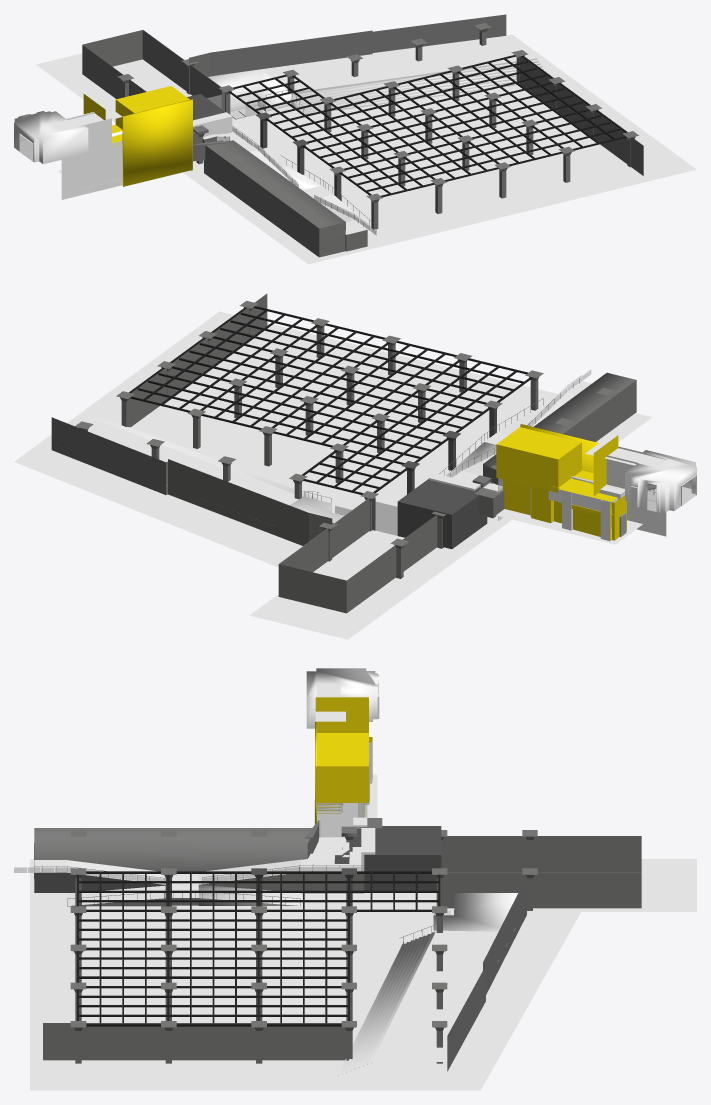
File: mtm.glb
3 views of the same model, one above another, from view 1: azimuth 30°, elevation 25°; view 2: azimuth 150°, elevation 25°; view 3: azimuth 270°, elevation 25° (orthographic). The views are drawn at different scales.
Parts seen in each view (by area): view 1: ISTAIS IZMERS SIENAM, ISTAIS IZMERS SIENAM.001, režģis, mazās_trepes, Cube.005, stabi.035, ieeja, Plane.002, mazā_zāle, Cube.012, Cube.003, Cube.009 (+9 smaller); view 2: ISTAIS IZMERS SIENAM, ISTAIS IZMERS SIENAM.001, režģis, mazā_zāle, stabi.035, Cube.012, GERBTUVE, mazās_trepes, Plane.001, ieeja, Cube.005, Cube.009 (+10 smaller); view 3: ISTAIS IZMERS SIENAM, ISTAIS IZMERS SIENAM.001, režģis, mazās_trepes, mazā_zāle, Cube.003, Cube.005, stabi.035, Cube.013, Plane.001, Cube.011, Cube.008 (+12 smaller).
Boxes of the visible parts, x1=… form: ISTAIS IZMERS SIENAM: x1=36, y1=34, x2=696, y2=264; ISTAIS IZMERS SIENAM.001: x1=38, y1=54, x2=692, y2=255; režģis: x1=228, y1=55, x2=627, y2=197; mazās_trepes: x1=208, y1=36, x2=545, y2=114; Cube.005: x1=204, y1=140, x2=345, y2=257; stabi.035: x1=117, y1=23, x2=638, y2=229; ieeja: x1=14, y1=111, x2=122, y2=199; Plane.002: x1=122, y1=99, x2=192, y2=186; mazā_zāle: x1=82, y1=30, x2=224, y2=111; Cube.012: x1=210, y1=30, x2=372, y2=76; Cube.003: x1=517, y1=53, x2=643, y2=175; Cube.009: x1=372, y1=14, x2=506, y2=52; ISTAIS IZMERS SIENAM: x1=14, y1=311, x2=652, y2=639; ISTAIS IZMERS SIENAM.001: x1=23, y1=312, x2=632, y2=637; režģis: x1=129, y1=306, x2=532, y2=494; mazā_zāle: x1=278, y1=497, x2=437, y2=613; stabi.035: x1=75, y1=300, x2=614, y2=578; Cube.012: x1=168, y1=459, x2=308, y2=545; GERBTUVE: x1=502, y1=476, x2=626, y2=541; mazās_trepes: x1=73, y1=416, x2=344, y2=522; Plane.001: x1=496, y1=427, x2=581, y2=492; ieeja: x1=625, y1=450, x2=696, y2=536; Cube.005: x1=483, y1=372, x2=636, y2=476; Cube.009: x1=51, y1=417, x2=167, y2=494; ISTAIS IZMERS SIENAM: x1=30, y1=859, x2=696, y2=1090; ISTAIS IZMERS SIENAM.001: x1=30, y1=859, x2=696, y2=1090; režģis: x1=77, y1=871, x2=440, y2=1026; mazās_trepes: x1=338, y1=893, x2=517, y2=1075; mazā_zāle: x1=443, y1=836, x2=641, y2=908; Cube.003: x1=43, y1=1023, x2=346, y2=1060; Cube.005: x1=34, y1=828, x2=311, y2=878; stabi.035: x1=70, y1=826, x2=537, y2=1063; Cube.013: x1=364, y1=826, x2=441, y2=890; Plane.001: x1=315, y1=733, x2=368, y2=802; Cube.011: x1=198, y1=859, x2=364, y2=893; Cube.008: x1=34, y1=860, x2=165, y2=892.
Size of the model in its own units: 64.01 by 10.11 by 56.72.
